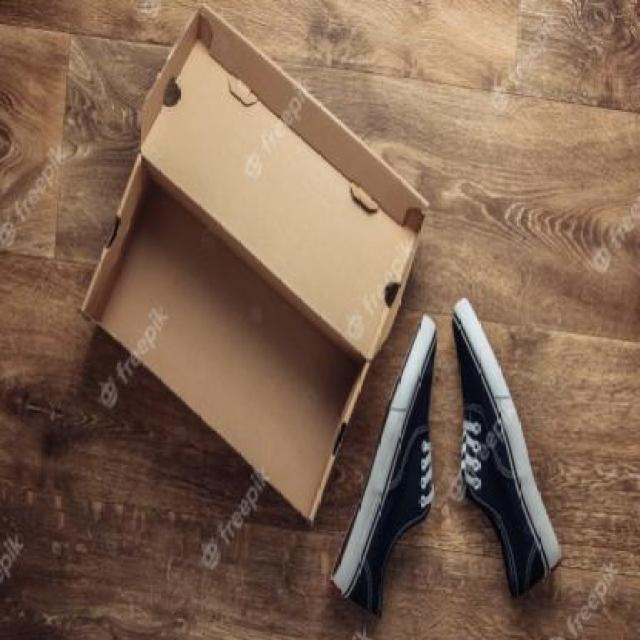box: (67, 1, 425, 518)
